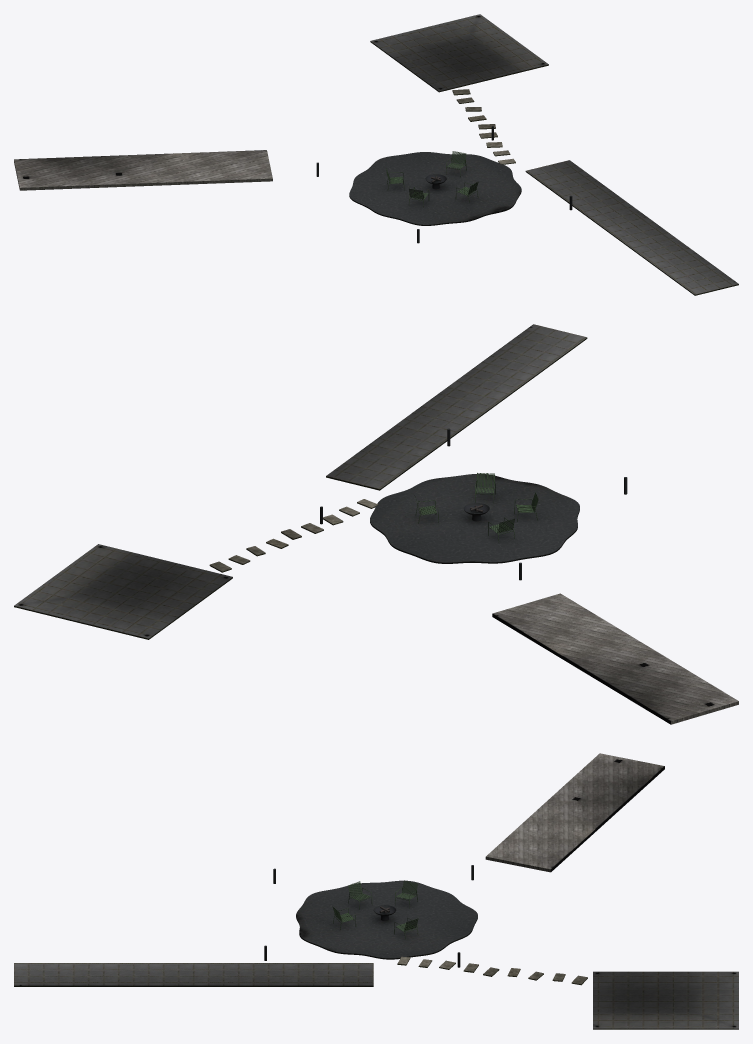
Rendered from hof.glb.
The picture shows the model from 3 angles, top to bottom: view 1: azimuth 30°, elevation 25°; view 2: azimuth 150°, elevation 25°; view 3: azimuth 270°, elevation 25°; orthographic projection. The views are drawn at different scales.
Parts seen in each view (by area): view 1: Licht_hof; view 2: Licht_hof; view 3: Licht_hof.
Part boxes in pixels (x1,y1,x2,y2): Licht_hof: (14, 14, 738, 295); Licht_hof: (14, 324, 738, 724); Licht_hof: (14, 753, 738, 1029).
Size of the model in its own units: 28.69 by 0.9527 by 32.25.
Materials: 1 (1 with a texture image).
